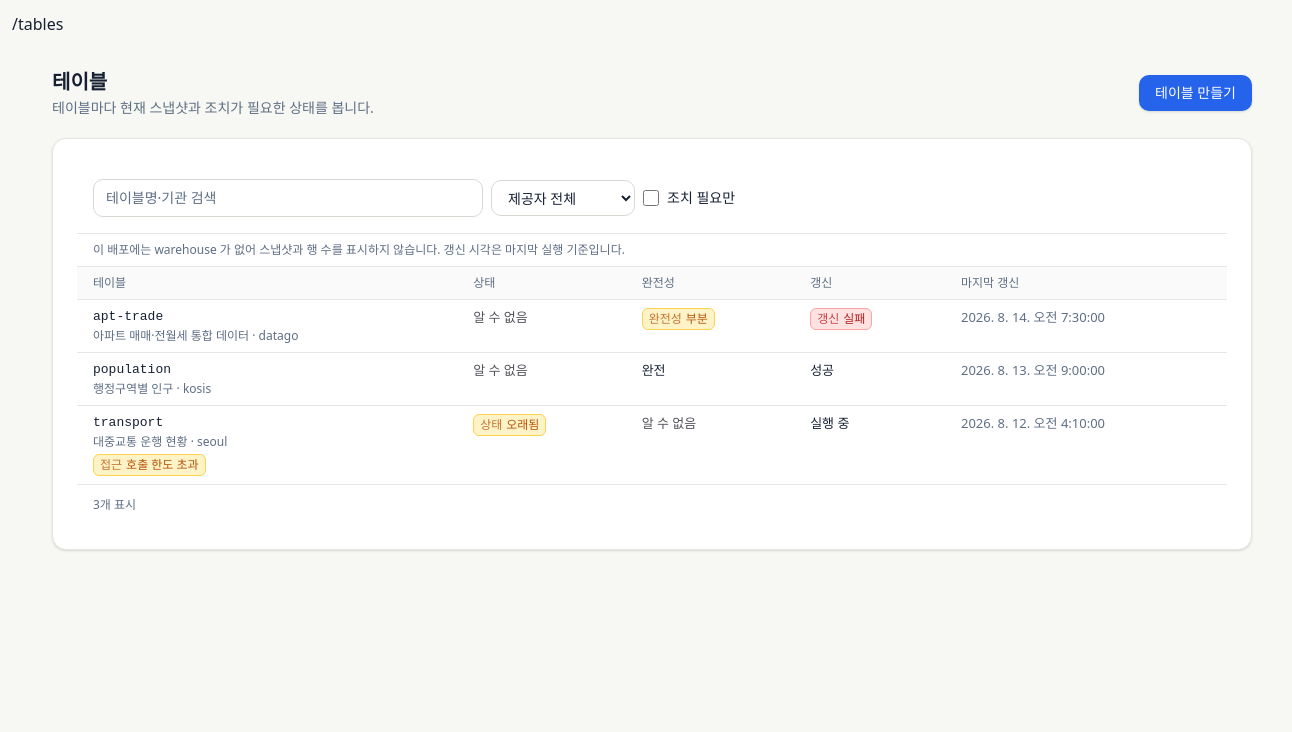
it: Tables without a warehouse (mock deployment) › narrows to tables that need attention, and keeps that in the URL
Expected: the text "apt-trade" is shown, [93,309,163,324]
Click the checkbox labelled "조치 필요만" at (651, 198), box [643,190,659,206]
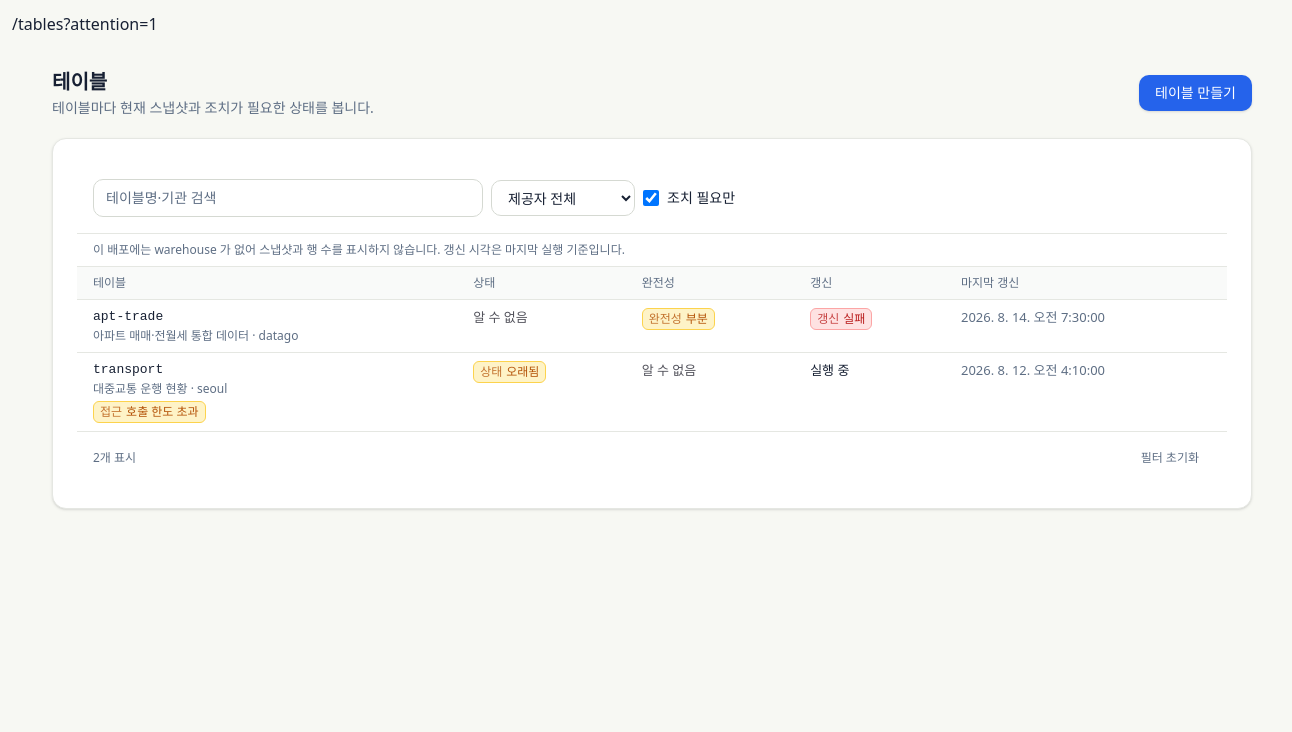
Expected: the text "apt-trade" is shown, [93,309,163,324]
Expected: the text with test id "location" shows "?attention=1", [63,13,158,35]
Expected: the link "population" is gone
